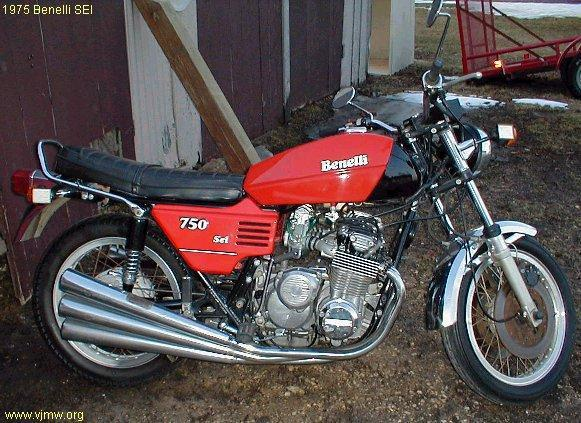motorcycle: (9, 68, 581, 415)
